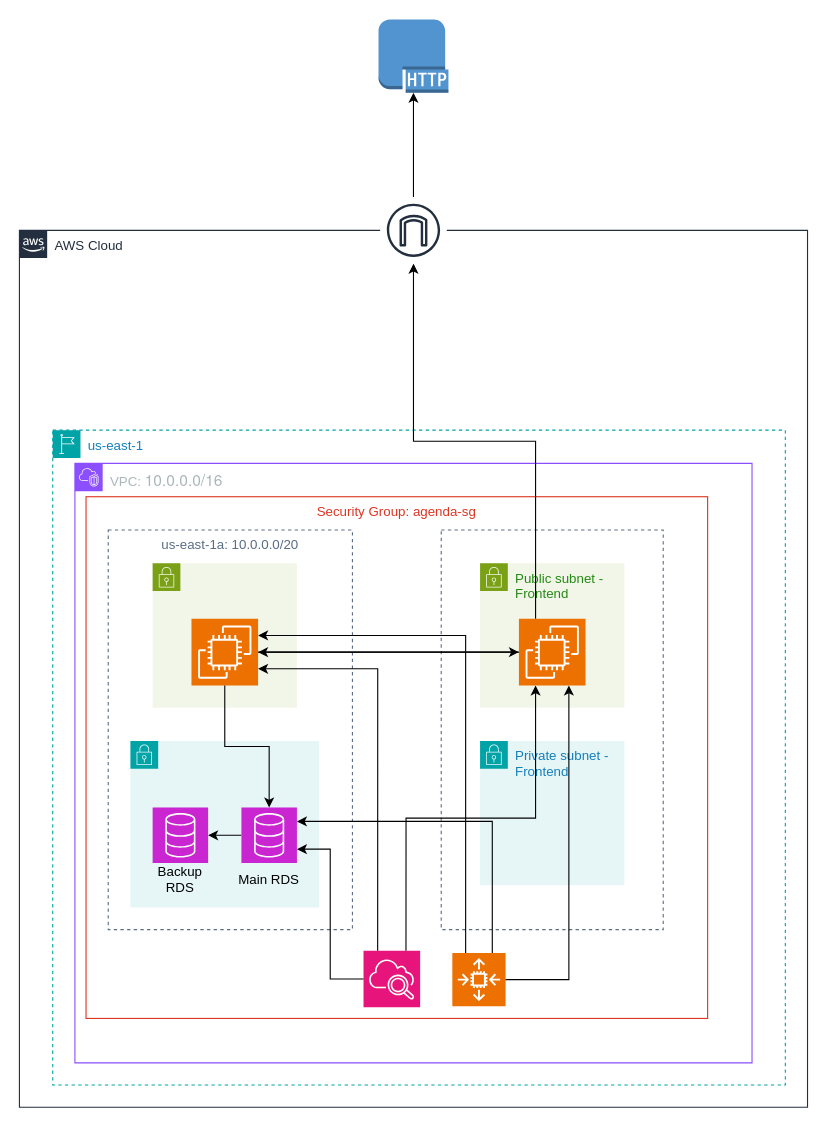
This 827x1127 diagram has some shape labels left out. Each missing label, with the box of its shape:
Internet gateway: (379, 196, 447, 264)
Private subnet - Backend: (129, 740, 319, 907)
Public subnet - Backend: (152, 562, 297, 708)
us-east-1b: 10.0.16.0/20: (440, 529, 663, 930)
